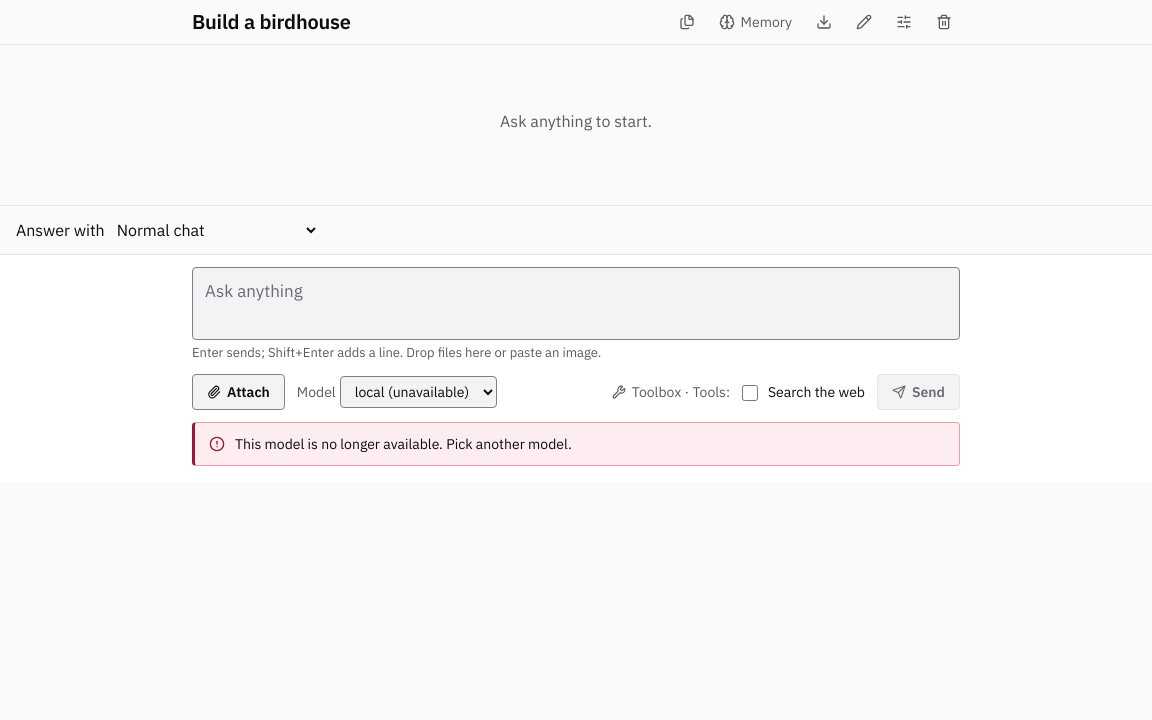
Test: starts the delete question on Keep it, and Escape backs out
Click the button named "Delete this chat": (944, 22) [928, 6, 960, 38]
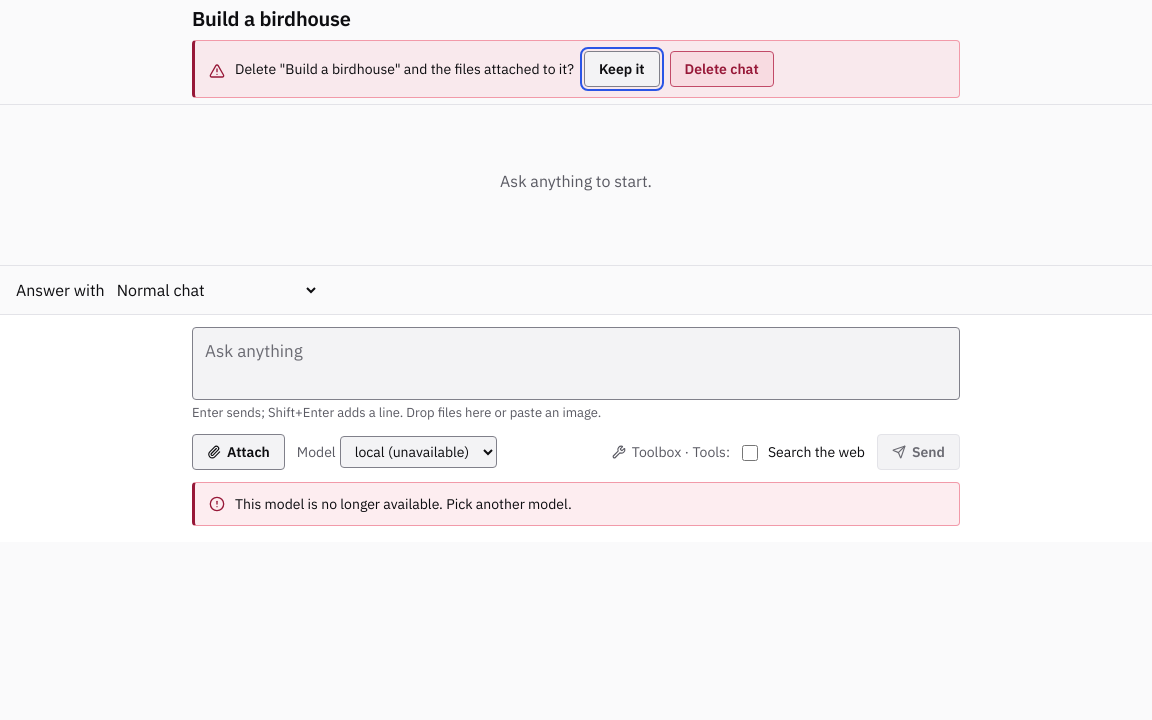
Press Escape in the button with test id "keep-chat", box [584, 51, 660, 87]
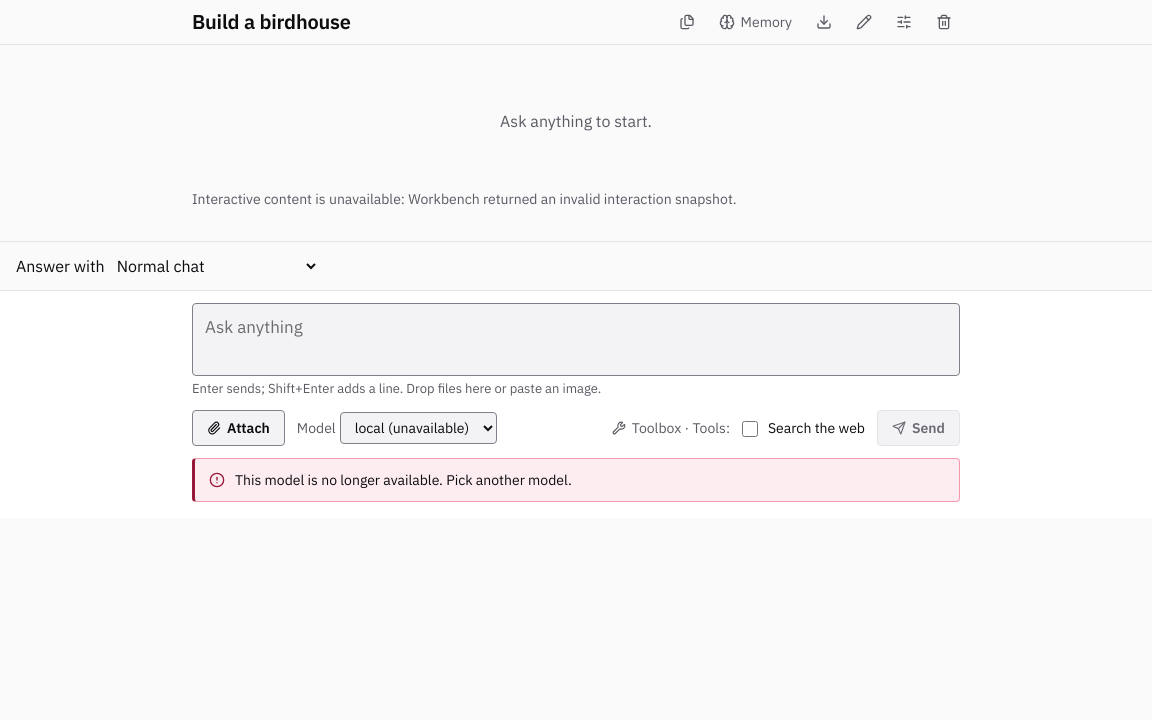
Expected: the button with test id "confirm-delete" is gone
